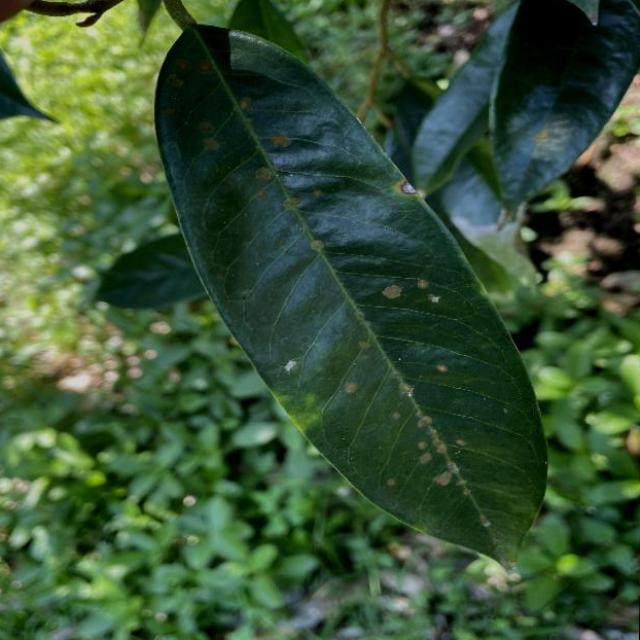Algal Leaf Spot: (138, 16, 569, 574)
